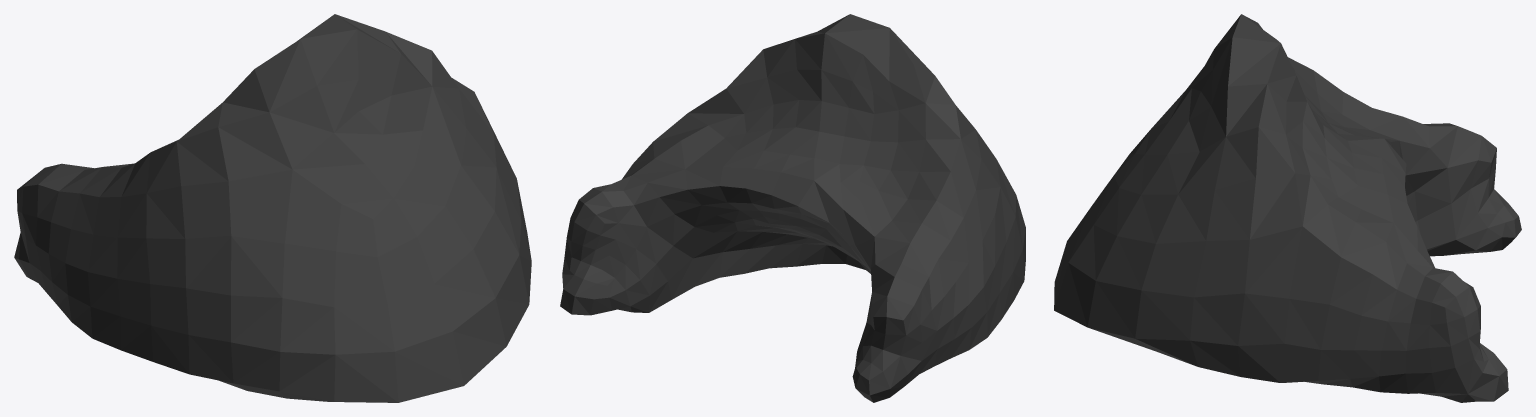
3 renders of one model, left to right at view 1: azimuth 30°, elevation 25°; view 2: azimuth 150°, elevation 25°; view 3: azimuth 270°, elevation 25°, orthographic. The views are drawn at different scales.
Visible parts, largest first — view 1: FL_P3_L; view 2: FL_P3_L; view 3: FL_P3_L.
Boxes of the visible parts, box(x1,y1,x2,y2) form: FL_P3_L: box(14, 14, 531, 402); FL_P3_L: box(560, 14, 1025, 402); FL_P3_L: box(1054, 14, 1521, 402).
Size of the model in its own units: 0.1026 by 0.0708 by 0.1042.
1 material, 1 textured.
